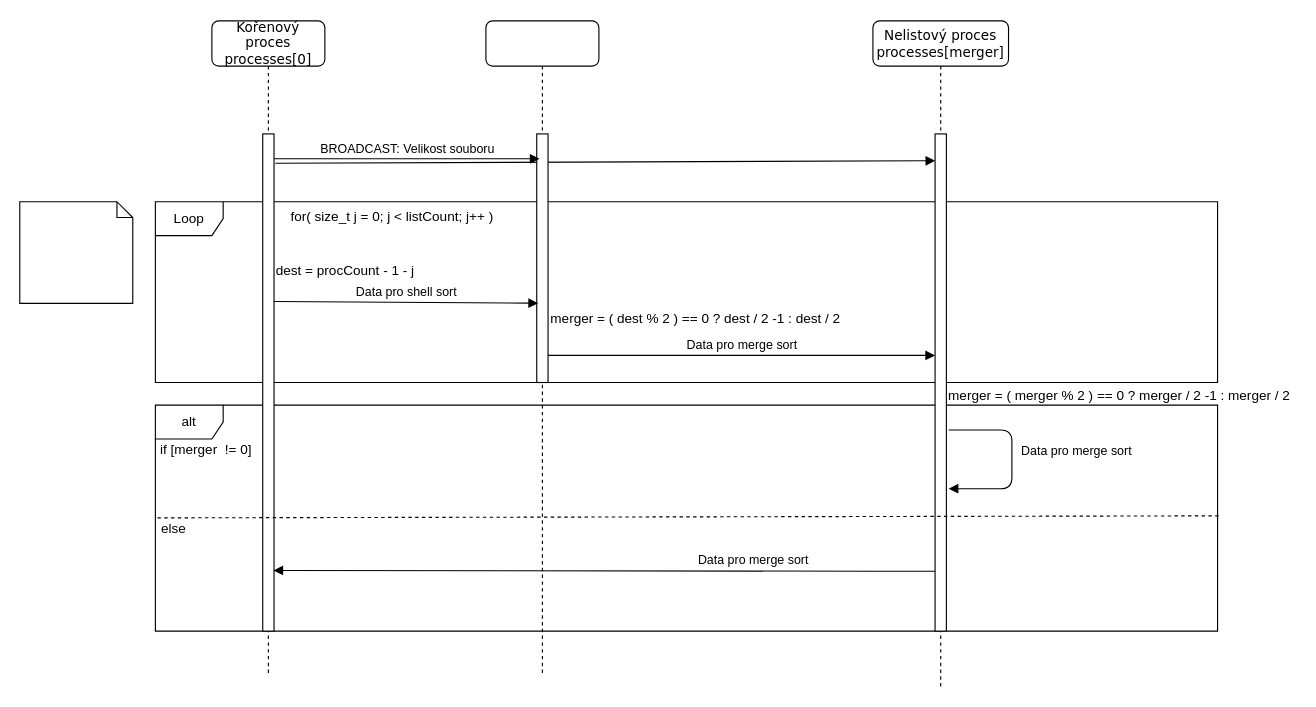
Image size: 1316x707. Some labels were removed from this diagram. The centre of each missing label's shape, as x and y in pixels:
"Listový proces processes[dest]" belongs at point (542, 348).
"ProcCount je celkový počet procesů listCount je počet listových procesů" belongs at point (76, 252).
